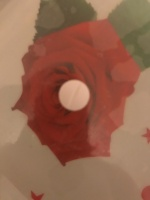Arveles: (57, 79, 91, 113)
